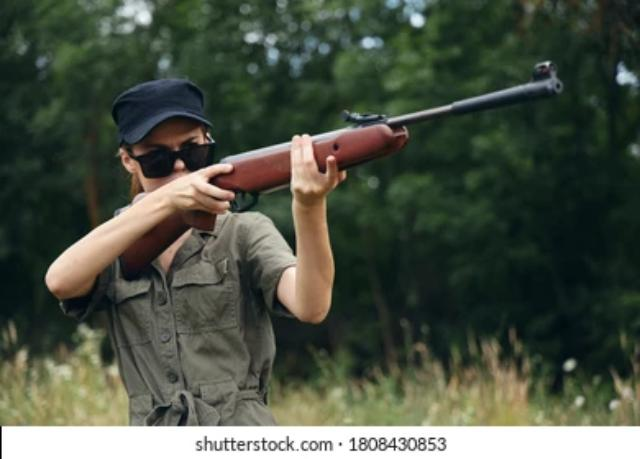other: (46, 74, 334, 429)
